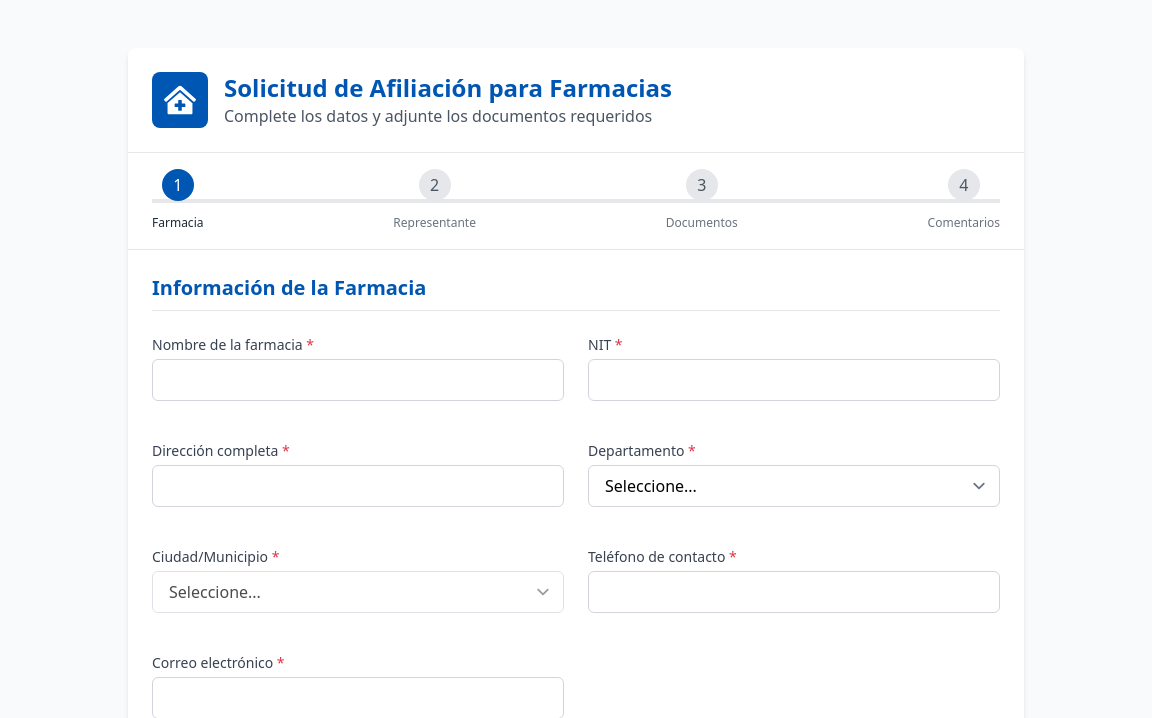
Formulario de Farmacia › Muestra error si el NIT ya está registrado
In the field named "nit" below "NIT": (794, 380) [588,359,1000,401], type "12345"
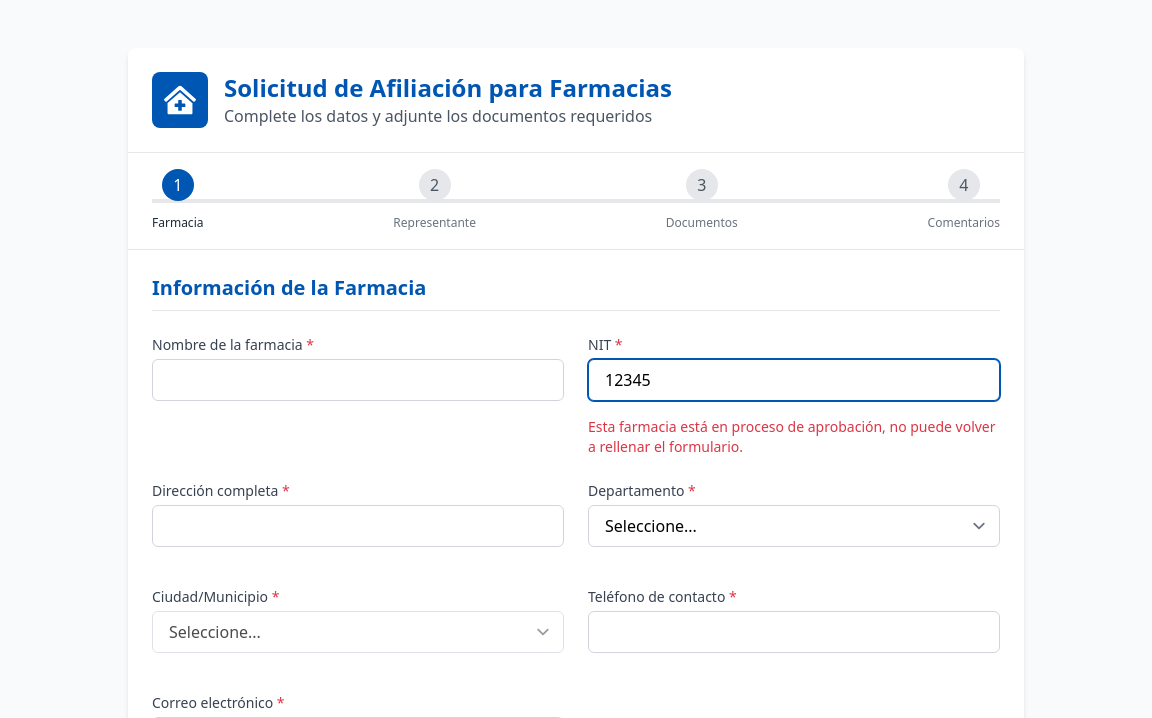
Expected: the text "Esta farmacia está en proceso de aprobación" is shown, [588,417,996,456]
